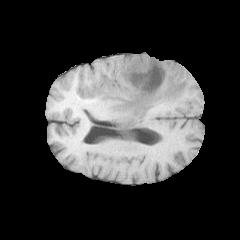glioma: (85, 54, 188, 120)
